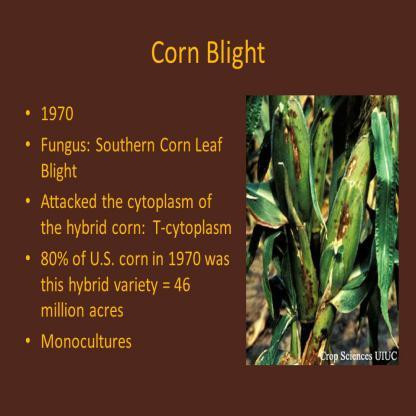Corn leaf blight: (246, 190, 310, 314)
